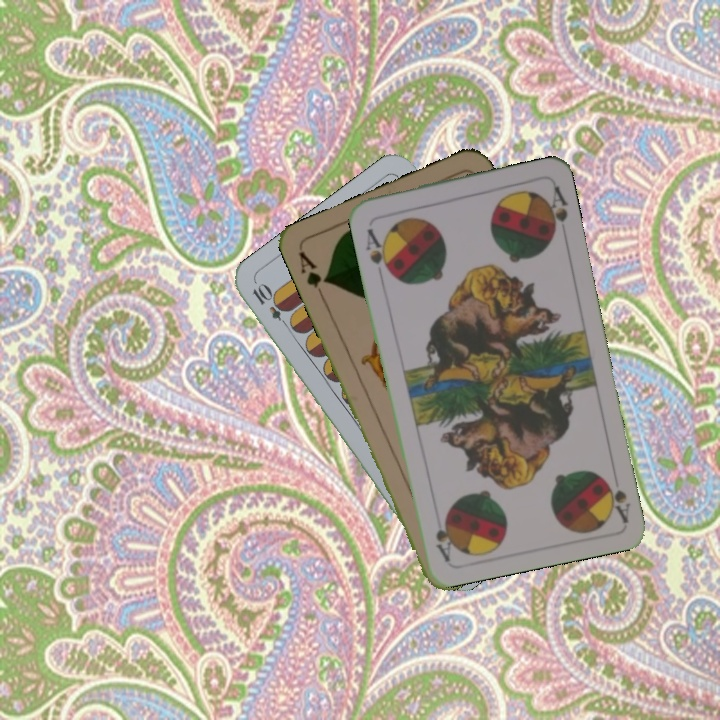E10: (248, 280, 294, 332)
GA: (295, 247, 331, 303)
SA: (599, 473, 633, 524), (361, 224, 394, 276)
